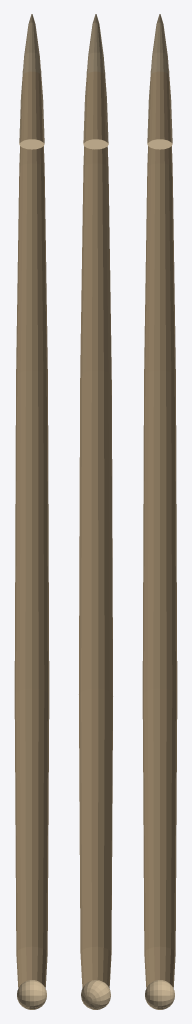
Rendered from drum_stick.glb.
3 renders of one model, left to right at view 1: azimuth 90°, elevation 25°; view 2: azimuth 150°, elevation 25°; view 3: azimuth 270°, elevation 25°, orthographic.
Parts seen in each view (by area): view 1: Wooden_Shaft, Tapered_Tip, Rounded_Butt; view 2: Wooden_Shaft, Tapered_Tip, Rounded_Butt; view 3: Wooden_Shaft, Tapered_Tip, Rounded_Butt.
Part boxes in pixels (<box>): Wooden_Shaft: <box>14,71,49,1007</box>; Tapered_Tip: <box>19,14,44,149</box>; Rounded_Butt: <box>17,980,46,1009</box>; Wooden_Shaft: <box>79,71,112,1007</box>; Tapered_Tip: <box>83,14,108,149</box>; Rounded_Butt: <box>81,980,110,1009</box>; Wooden_Shaft: <box>142,71,177,1007</box>; Tapered_Tip: <box>147,14,172,149</box>; Rounded_Butt: <box>145,980,174,1009</box>.
Size of the model in its own units: 0.0128 by 0.4055 by 0.0128.
